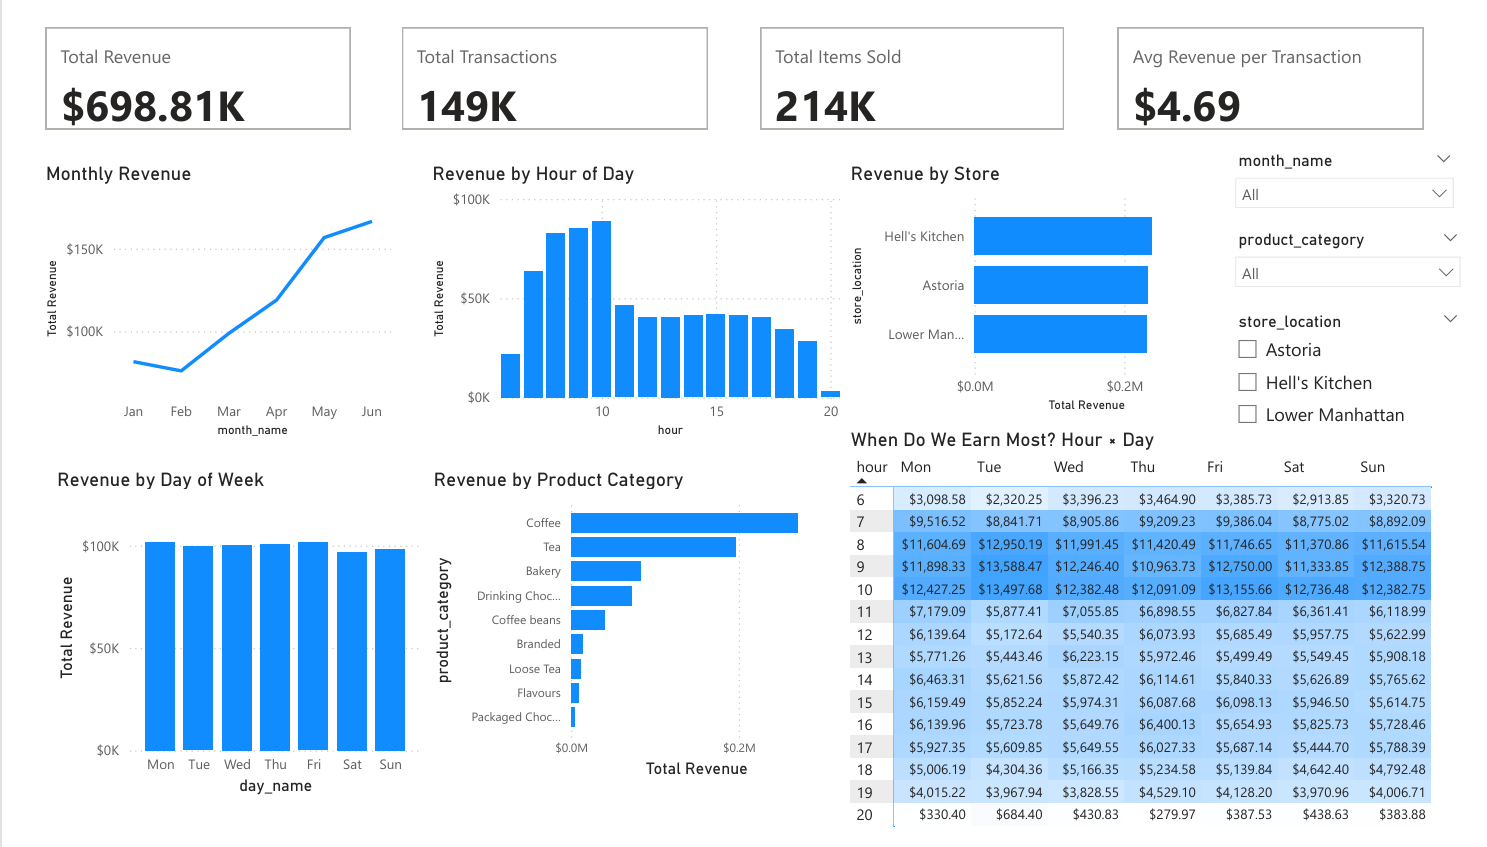

This screenshot's page, from the dashboard's own definition file:
{"tool":"powerbi","page":{"name":"Page 1","canvas":[1280,720],"ordinal":0},"visuals":[{"type":"cardVisual","fields":{"Data":["Transactions.Total Revenue"]},"box":[10,0,280,100],"z":0},{"type":"cardVisual","fields":{"Data":["Transactions.Avg Revenue per Transaction"]},"box":[960.6,0,281.3,100],"z":1000},{"type":"cardVisual","fields":{"Data":["Transactions.Total Transactions"]},"box":[326.4,0,281.3,100],"z":2000},{"type":"cardVisual","fields":{"Data":["Transactions.Total Items Sold"]},"box":[644.2,0,279.9,100],"z":3000},{"type":"lineChart","title":"Monthly Revenue","fields":{"Category":["Transactions.month_name"],"Y":["Transactions.Total Revenue"]},"box":[9.8,123.5,316.7,249.5],"z":4000},{"type":"clusteredColumnChart","title":"Revenue by Hour of Day","fields":{"Y":["Transactions.Total Revenue"],"Category":["Transactions.hour"]},"box":[353.4,123.5,370.5,249.5],"z":5000},{"type":"clusteredColumnChart","title":"Revenue by Day of Week","fields":{"Category":["Transactions.day_name"],"Y":["Transactions.Total Revenue"]},"box":[19.6,395,333.8,294.7],"z":6000},{"type":"barChart","title":"Revenue by Store","fields":{"Category":["Transactions.store_location"],"Y":["Transactions.Total Revenue"]},"box":[723.8,123.8,336.2,227.5],"z":7000},{"type":"barChart","title":"Revenue by Product Category","fields":{"Category":["Transactions.product_category"],"Y":["Transactions.Total Revenue"]},"box":[353.8,395,370,280],"z":8000},{"type":"pivotTable","title":"When Do We Earn Most? Hour × Day","fields":{"Rows":["Transactions.hour"],"Columns":["Transactions.day_name"],"Values":["Transactions.Total Revenue"]},"box":[723.8,360,556.2,360],"z":9000},{"type":"slicer","fields":{"Values":["Transactions.store_location"]},"box":[1060.2,251.9,220.1,121.1],"z":10000},{"type":"slicer","fields":{"Values":["Transactions.month_name"]},"box":[1060.2,110.1,214,55],"z":11000},{"type":"slicer","fields":{"Values":["Transactions.product_category"]},"box":[1060.2,179.8,220.1,55],"z":12000}]}

Visuals, with their boxes in screenshot pixels (x1, y1, x2, y2), scaled from the page's 1280x720 canvas onto the 1487x847 screenshot:
cardVisual - Transactions.Total Revenue: region(12, 0, 337, 118)
cardVisual - Transactions.Avg Revenue per Transaction: region(1116, 0, 1443, 118)
cardVisual - Transactions.Total Transactions: region(379, 0, 706, 118)
cardVisual - Transactions.Total Items Sold: region(748, 0, 1074, 118)
"Monthly Revenue" lineChart: region(11, 145, 379, 439)
"Revenue by Hour of Day" clusteredColumnChart: region(411, 145, 841, 439)
"Revenue by Day of Week" clusteredColumnChart: region(23, 465, 411, 811)
"Revenue by Store" barChart: region(841, 146, 1231, 413)
"Revenue by Product Category" barChart: region(411, 465, 841, 794)
"When Do We Earn Most? Hour × Day" pivotTable: region(841, 424, 1486, 846)
slicer - Transactions.store_location: region(1232, 296, 1486, 439)
slicer - Transactions.month_name: region(1232, 130, 1480, 194)
slicer - Transactions.product_category: region(1232, 212, 1486, 276)
